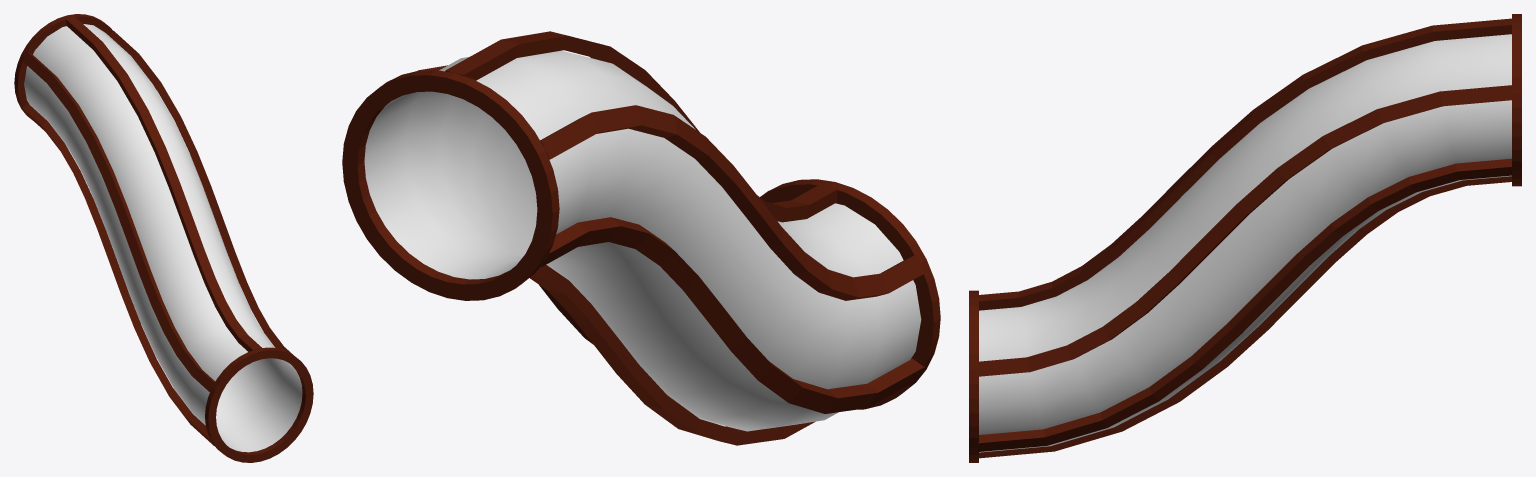
The model's file is Slide.fbx.
The picture shows the model from 3 angles, left to right: view 1: azimuth 30°, elevation 25°; view 2: azimuth 150°, elevation 25°; view 3: azimuth 270°, elevation 25°; orthographic projection. The views are drawn at different scales.
Visible parts, largest first — view 1: SlideTube, SlideProtections, SlideExit, SlideEntry; view 2: SlideTube, SlideProtections, SlideEntry, SlideExit; view 3: SlideTube, SlideProtections, SlideEntry, SlideExit.
Part boxes in pixels (x1=…): SlideTube: x1=24, y1=24, x2=302, y2=452; SlideProtections: x1=22, y1=17, x2=292, y2=446; SlideExit: x1=205, y1=347, x2=313, y2=462; SlideEntry: x1=14, y1=14, x2=112, y2=120; SlideTube: x1=364, y1=50, x2=921, y2=431; SlideProtections: x1=417, y1=31, x2=924, y2=445; SlideEntry: x1=342, y1=70, x2=559, y2=300; SlideExit: x1=760, y1=179, x2=940, y2=409; SlideTube: x1=979, y1=34, x2=1511, y2=452; SlideProtections: x1=978, y1=18, x2=1511, y2=458; SlideEntry: x1=1512, y1=14, x2=1521, y2=186; SlideExit: x1=969, y1=290, x2=978, y2=462.
Bounding box in the file's own units: 2.27 × 6.27 × 7.25.
